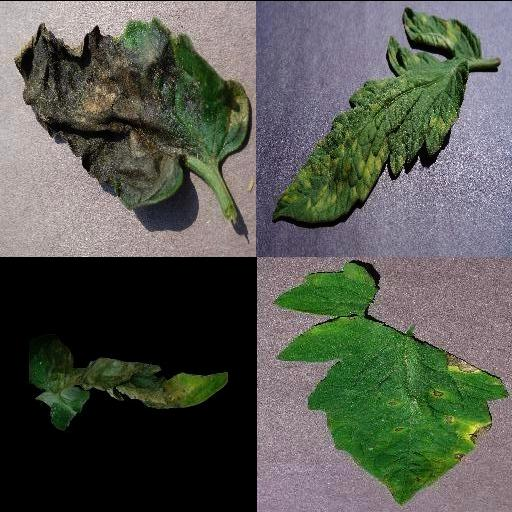Late Blight: (12, 18, 252, 206), (27, 337, 229, 429)
Leaf Mold: (270, 6, 482, 223)
Septoria: (275, 316, 508, 506)
